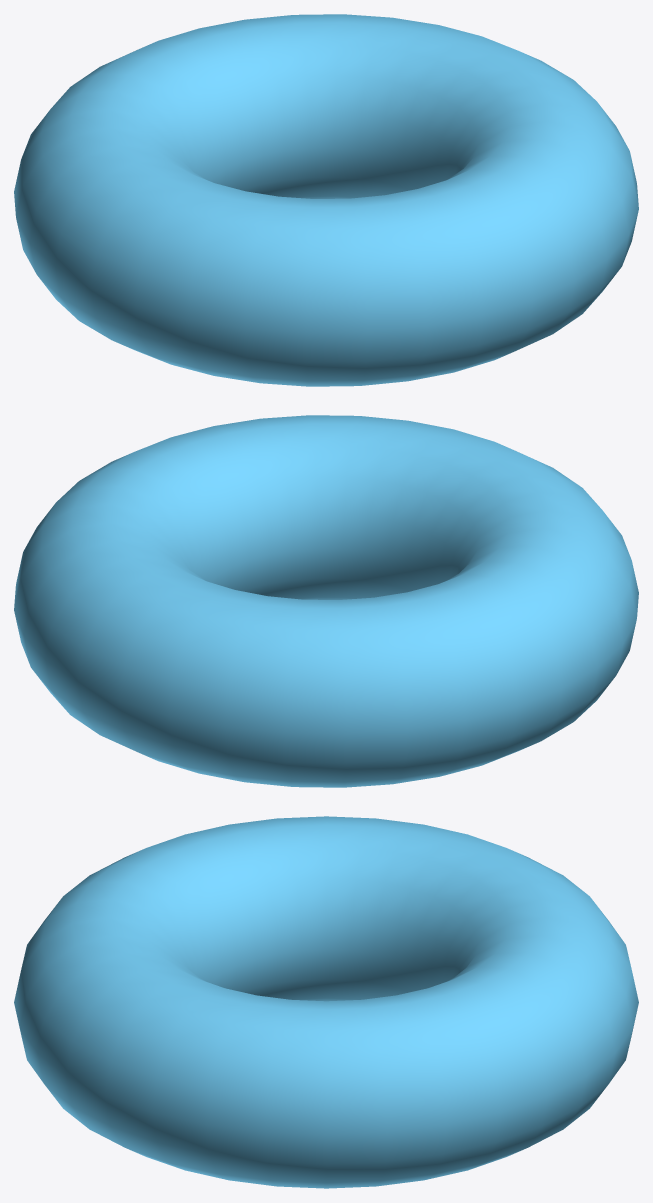
3 views of the same model, one above another, from view 1: azimuth 30°, elevation 25°; view 2: azimuth 150°, elevation 25°; view 3: azimuth 270°, elevation 25° (orthographic).
Size of the model in its own units: 2 by 0.6 by 2.
